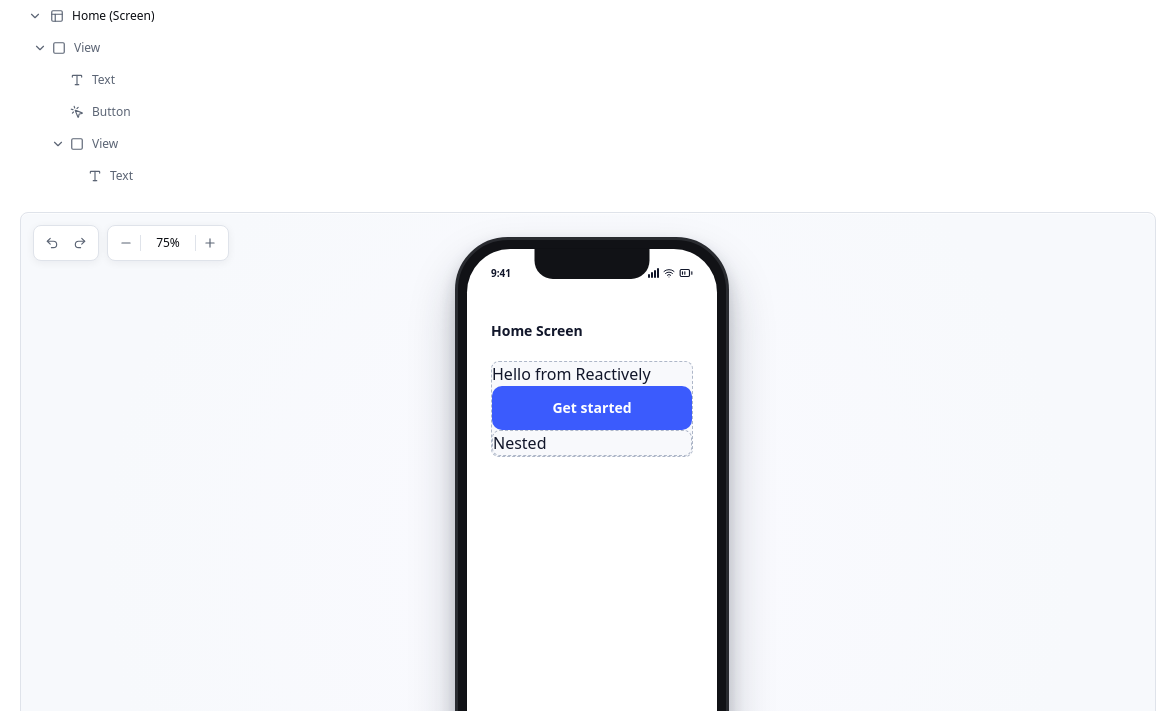
Test: LayersPanel selection synchronization › synchronizes Layers, canvas and Inspector through the same selection state
The width and height of the screenshot is (1164, 711).
Click the button with aria-label "Select Deep Text layer" at [95, 176], box [88,160,1148,192]
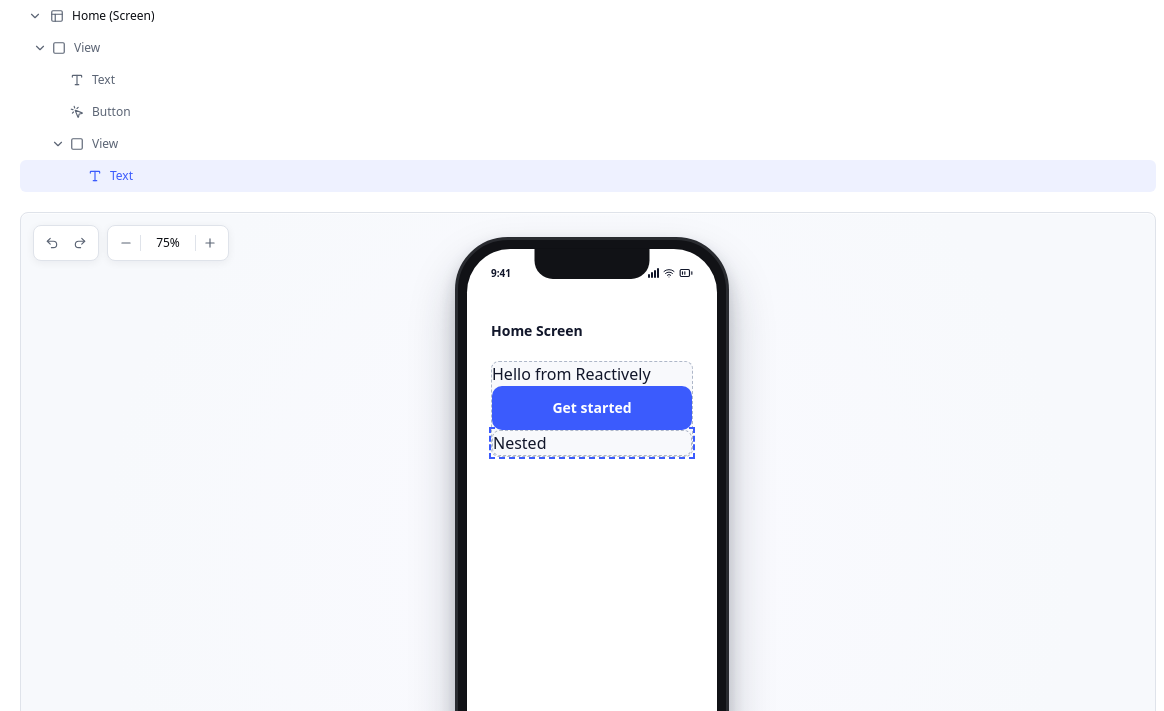
Click the button with aria-label "Select Primary Action" at [592, 408], box [492,386,692,430]
(page scrolled)
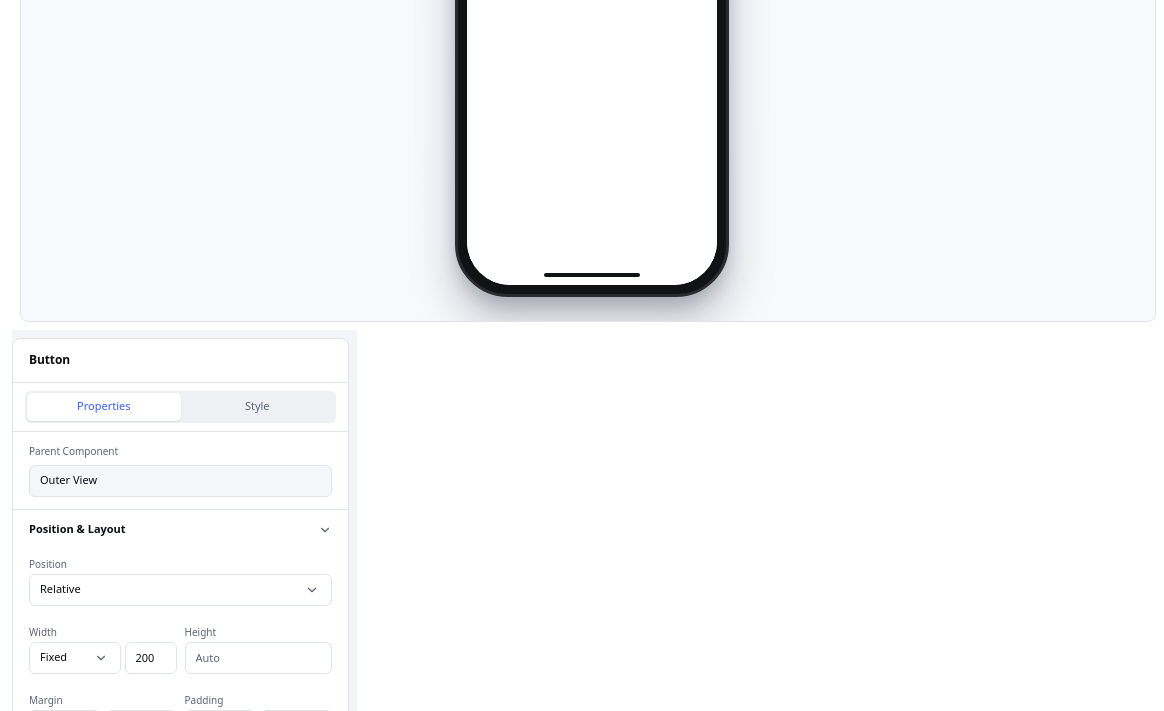
Check: the heading "Button" is shown, box [29,352,70,368]
